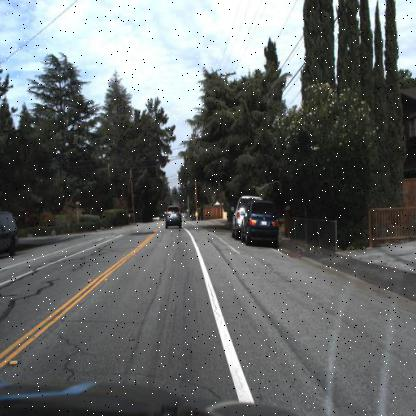car: (240, 196, 282, 256), (239, 198, 280, 246), (0, 204, 20, 260), (160, 201, 186, 237), (228, 194, 246, 244)
